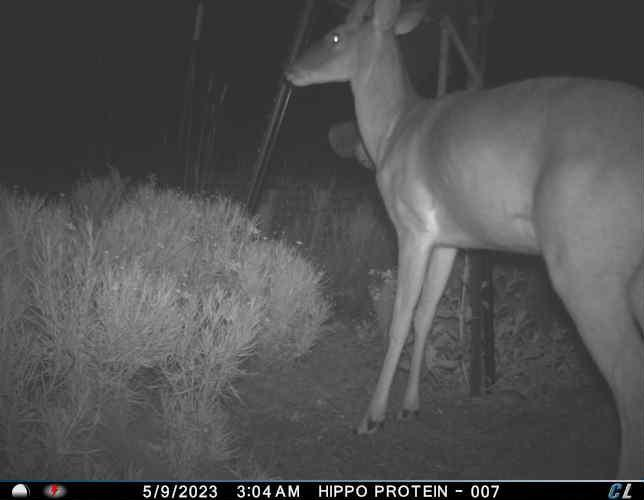Deer: (281, 0, 644, 480)
